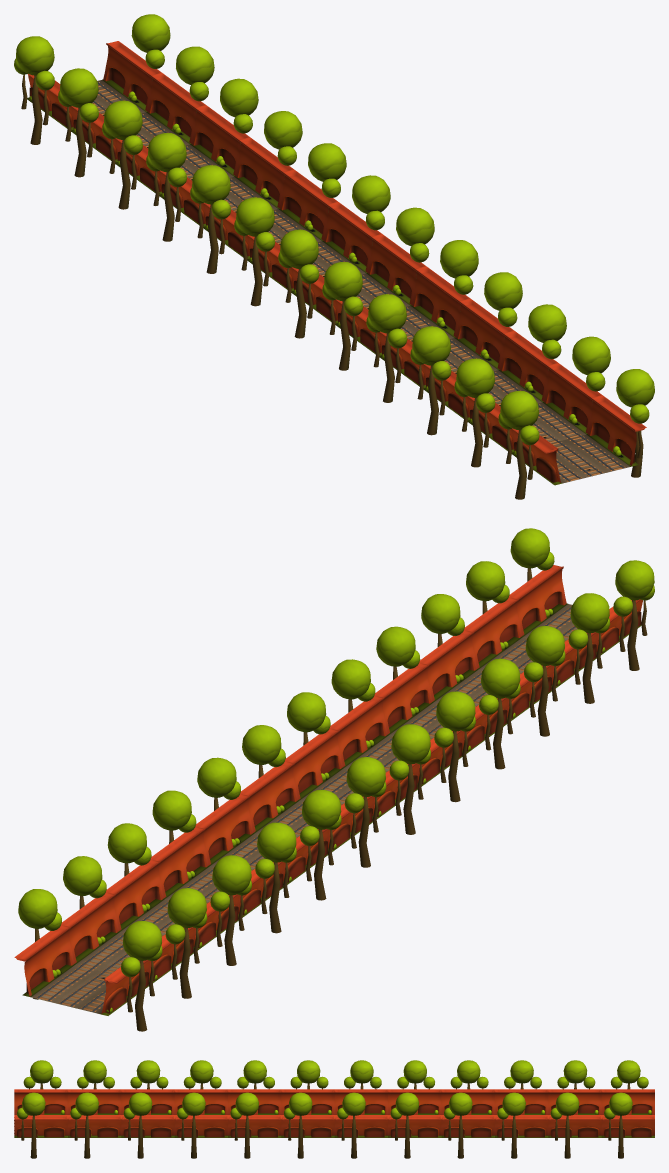
3 renders of one model, top to bottom at view 1: azimuth 30°, elevation 25°; view 2: azimuth 150°, elevation 25°; view 3: azimuth 270°, elevation 25°, orthographic. The views are drawn at different scales.
Visible parts, largest first — view 1: Done; view 2: Done; view 3: Done.
Boxes of the visible parts, left/top/right/bottom form: Done: left=14, top=14, right=654, bottom=499; Done: left=14, top=528, right=654, bottom=1031; Done: left=14, top=1060, right=654, bottom=1158.
Size of the model in its own units: 3103 by 2166 by 19816.
